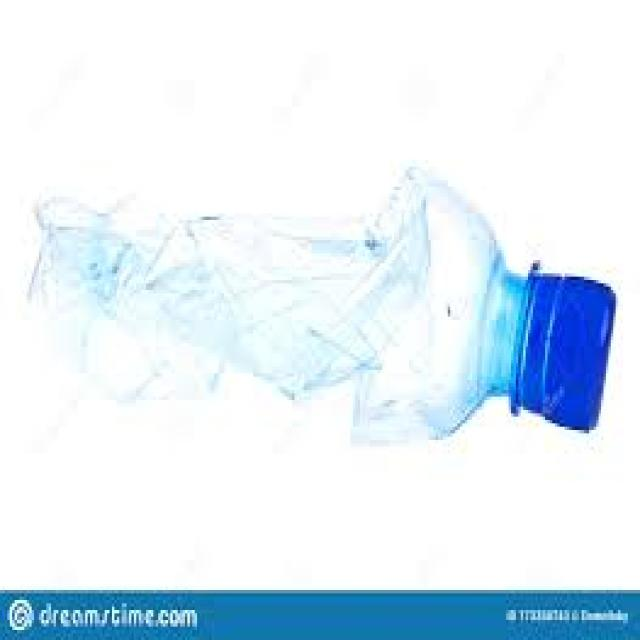Anorganik: (22, 167, 613, 440), (506, 260, 613, 430)
